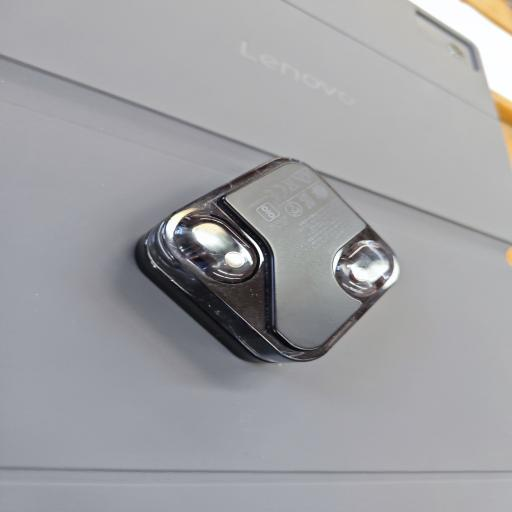CASTI: (129, 154, 411, 364)
